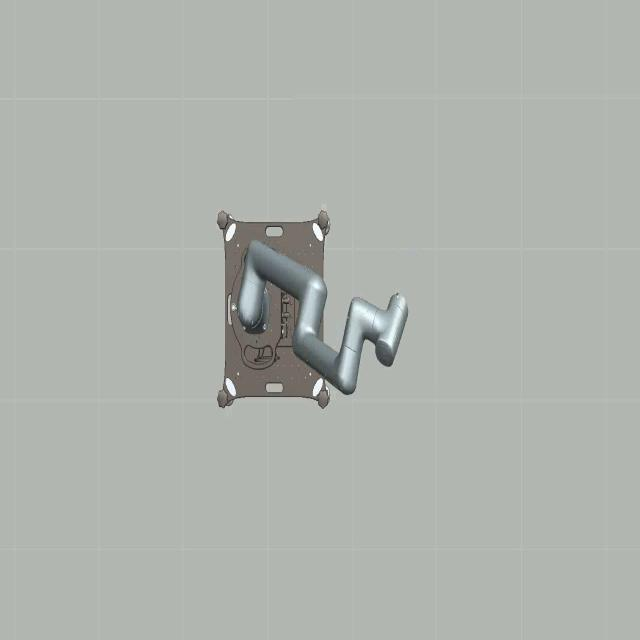robot: (231, 220, 408, 409)
